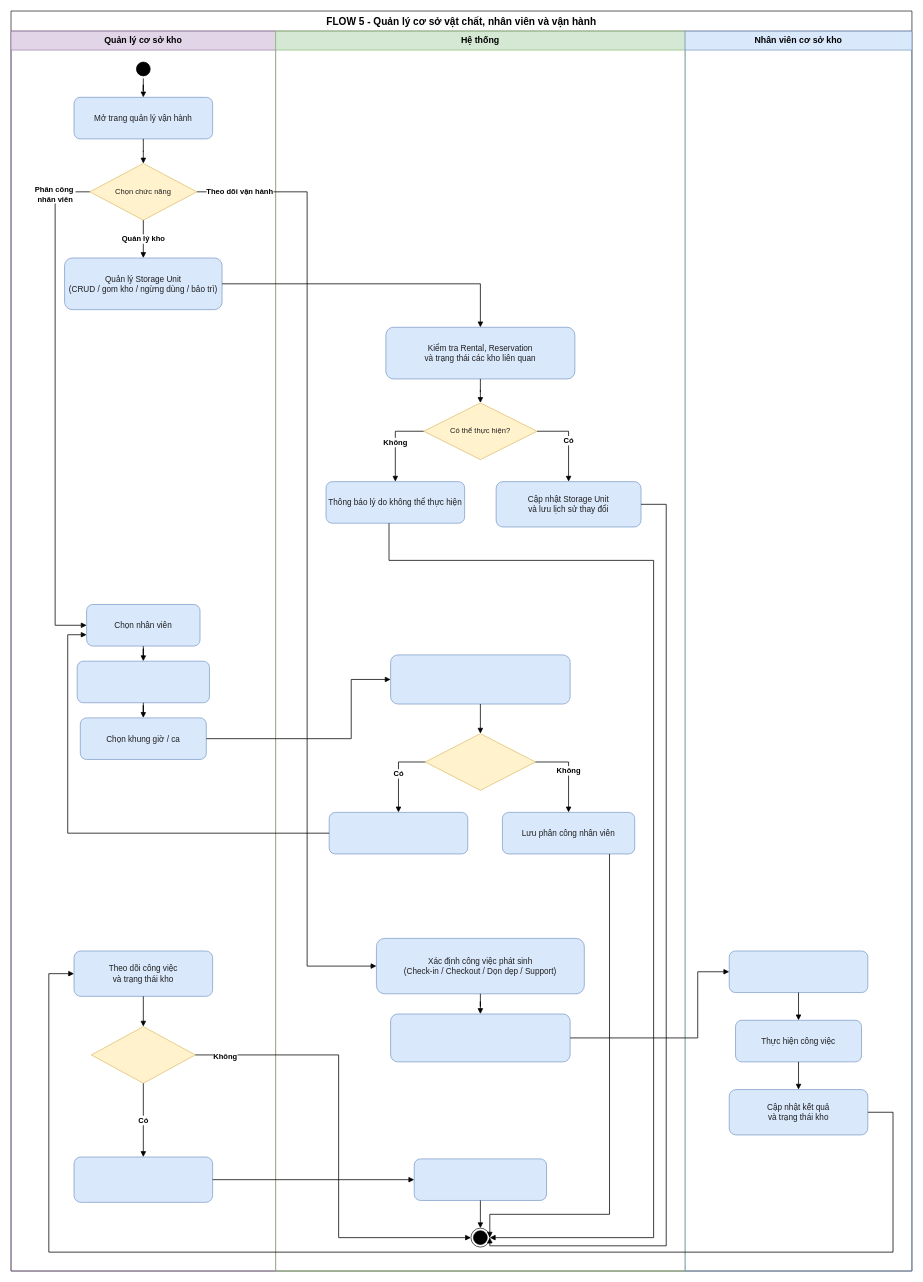
The diagram is 923 pixels wide and 1282 high, and some of its shapes have lost their labels. Here are the shapes that lost their labels. From the top down, the centre of each, then its label:
(x=143, y=682): Chọn nhóm / khu vực kho
(x=480, y=679): Kiểm tra xung đột ca làm, khu vực và thời gian
(x=480, y=761): Có xung đột?
(x=398, y=833): Thông báo và yêu cầu chọn lại
(x=798, y=971): Xem công việc được giao
(x=143, y=1054): Có sai trạng thái?
(x=480, y=1037): Tìm nhân viên phụ trách theo kho + khung giờ
(x=143, y=1179): Sửa trạng thái kho và nhập lý do
(x=480, y=1179): Lưu Activity Log
